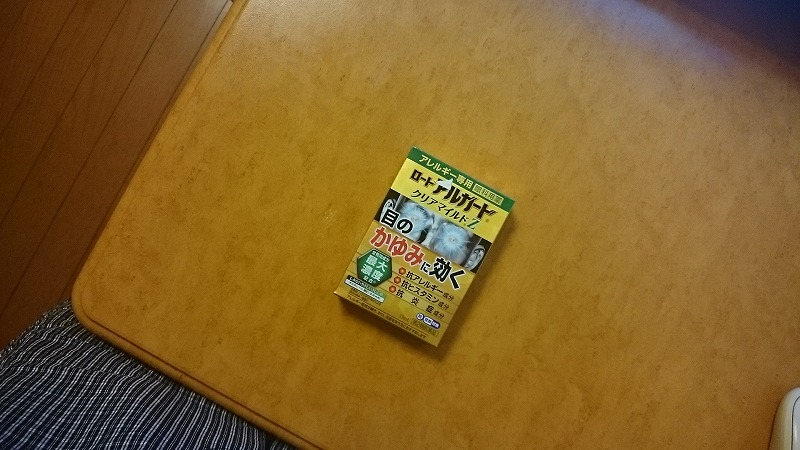C: (330, 139, 521, 356)
